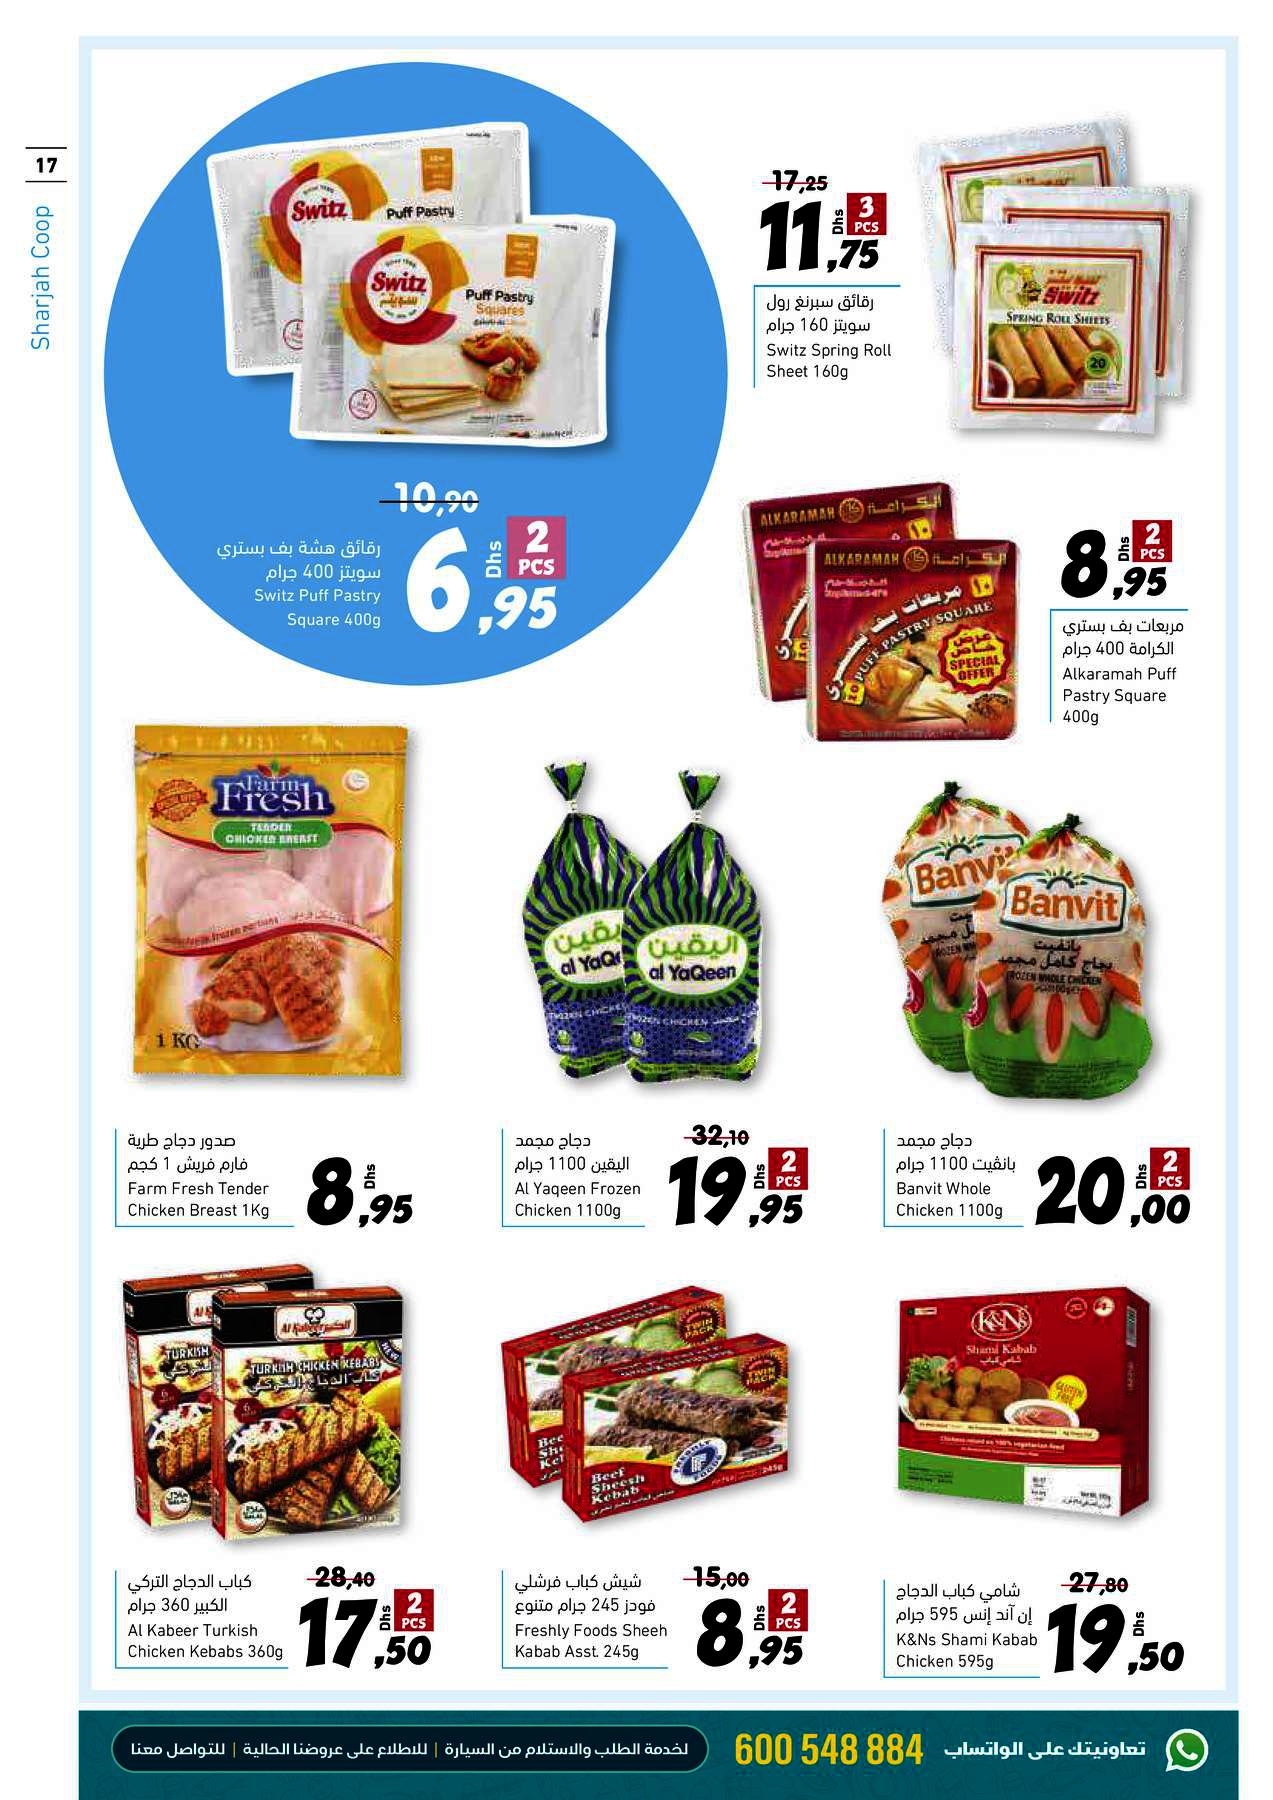text: (207, 530, 398, 640), (120, 1564, 296, 1666), (507, 1564, 676, 1665), (1055, 611, 1196, 731), (118, 1122, 282, 1224), (890, 1571, 1043, 1675), (506, 1122, 650, 1224), (887, 1122, 1028, 1224), (756, 288, 902, 386)
